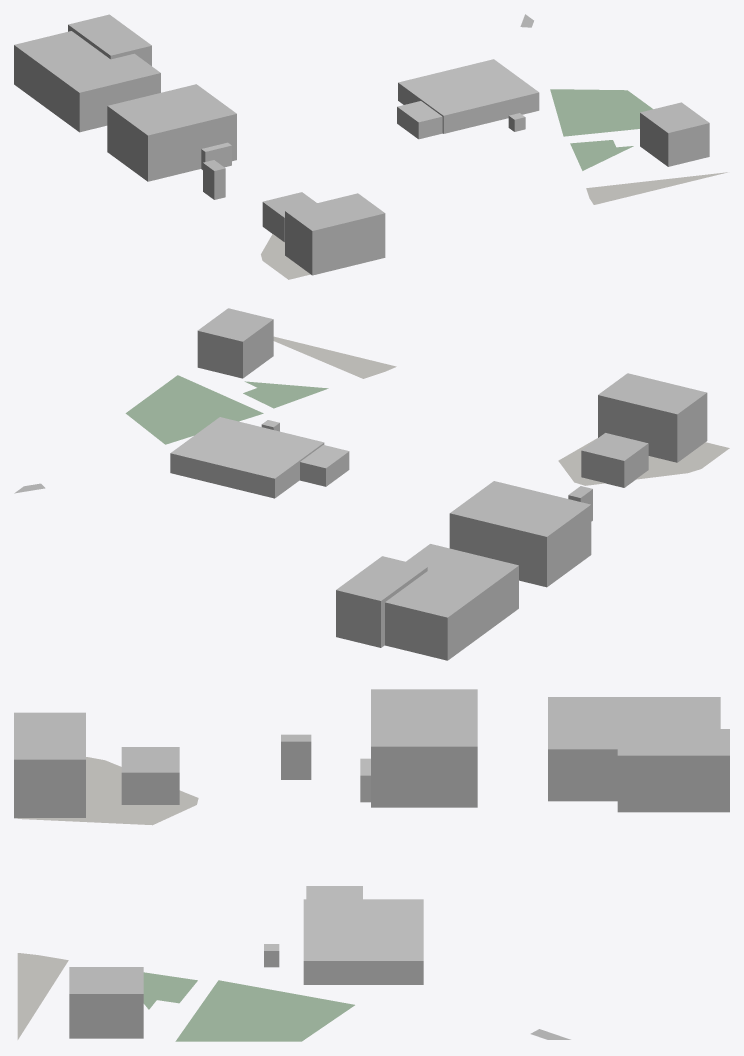
The model's file is 132_97_mid.glb.
3 views of the same model, one above another, from view 1: azimuth 30°, elevation 25°; view 2: azimuth 150°, elevation 25°; view 3: azimuth 270°, elevation 25° (orthographic). The views are drawn at different scales.
Size of the model in its own units: 509 by 51.54 by 527.
